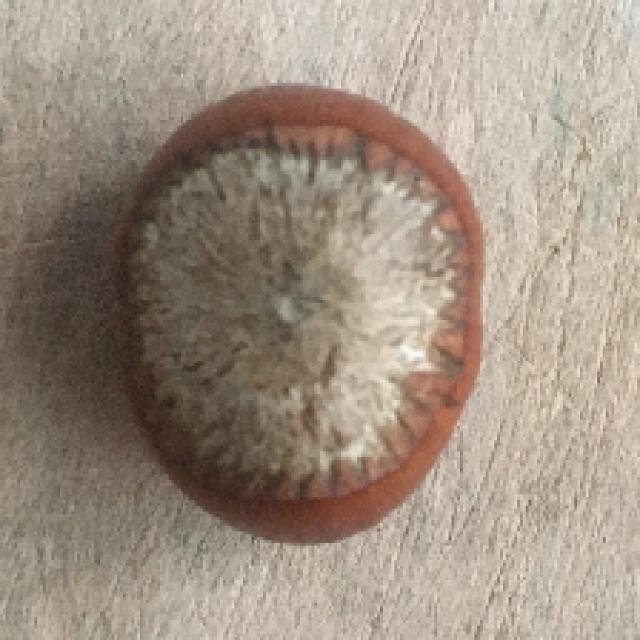QualityHazelnut: (112, 81, 485, 546)
